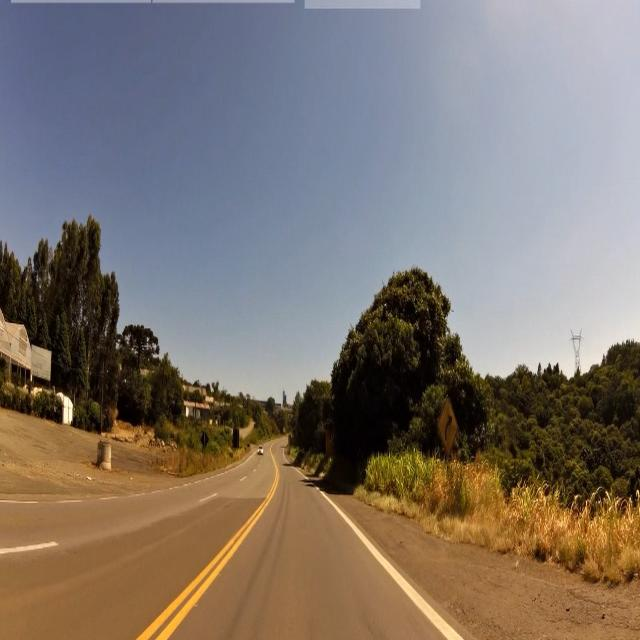A-2b: (436, 398, 460, 455)
